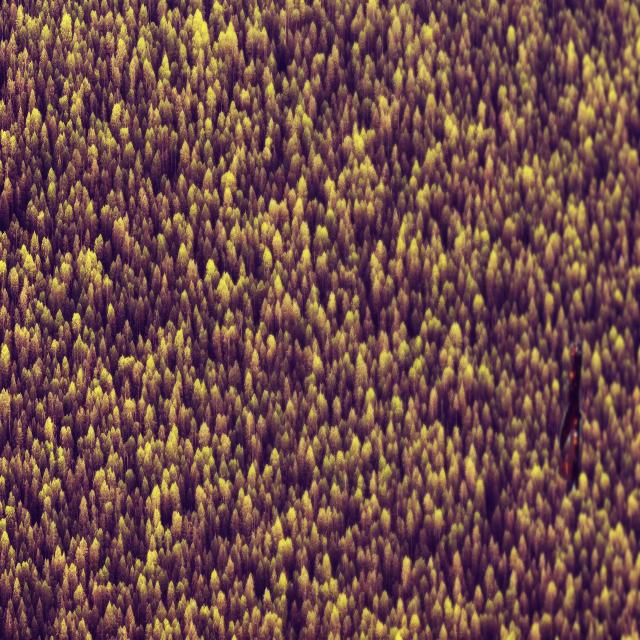airplane: (558, 342, 584, 495)
